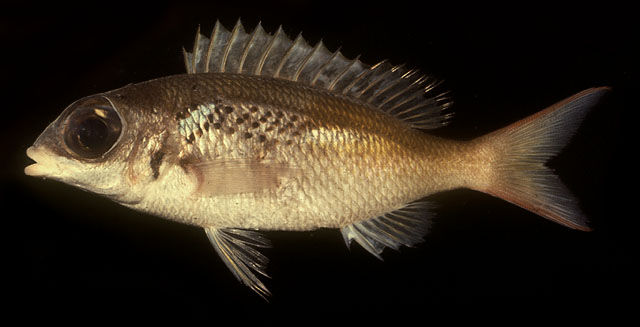fish: (25, 21, 611, 301)
